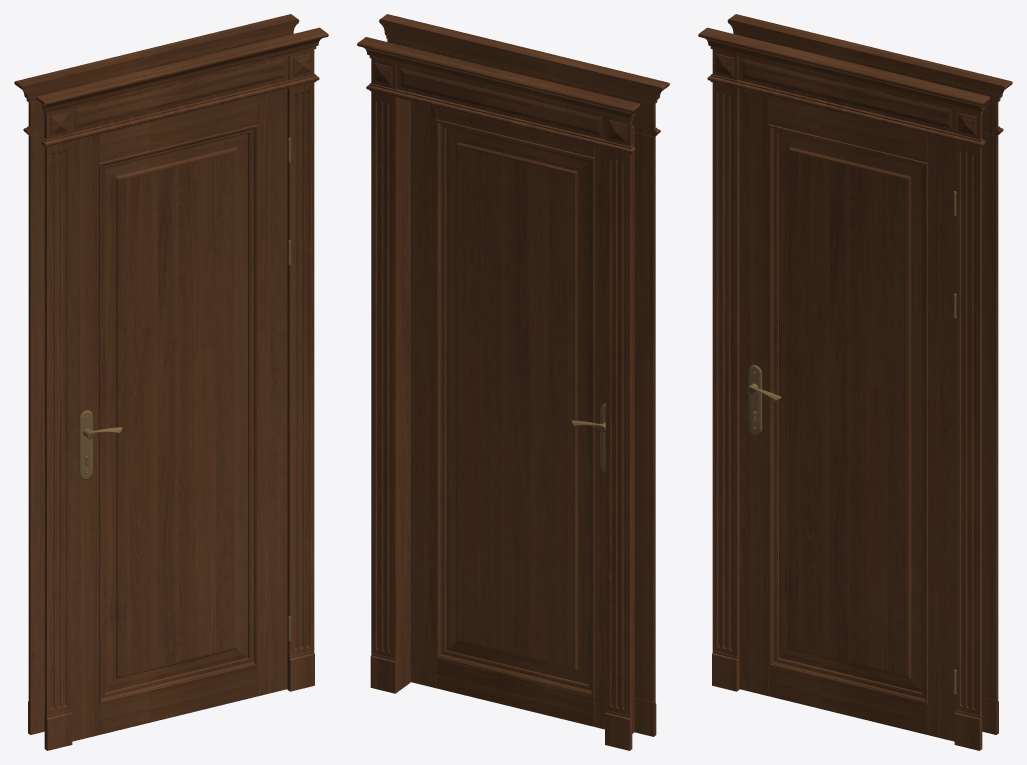
Rendered from door.glb.
3 views of the same model, side by side, from view 1: azimuth 30°, elevation 25°; view 2: azimuth 150°, elevation 25°; view 3: azimuth 330°, elevation 25° (orthographic).
Visible parts, largest first — view 1: dors6; view 2: dors6; view 3: dors6.
Part boxes in pixels (x1,y1,x2,y2): dors6: (14,14,328,750); dors6: (357,14,669,750); dors6: (698,14,1012,750).
Size of the model in its own units: 1.04 by 2.28 by 0.2139.
Materials: 2 (1 with a texture image).
